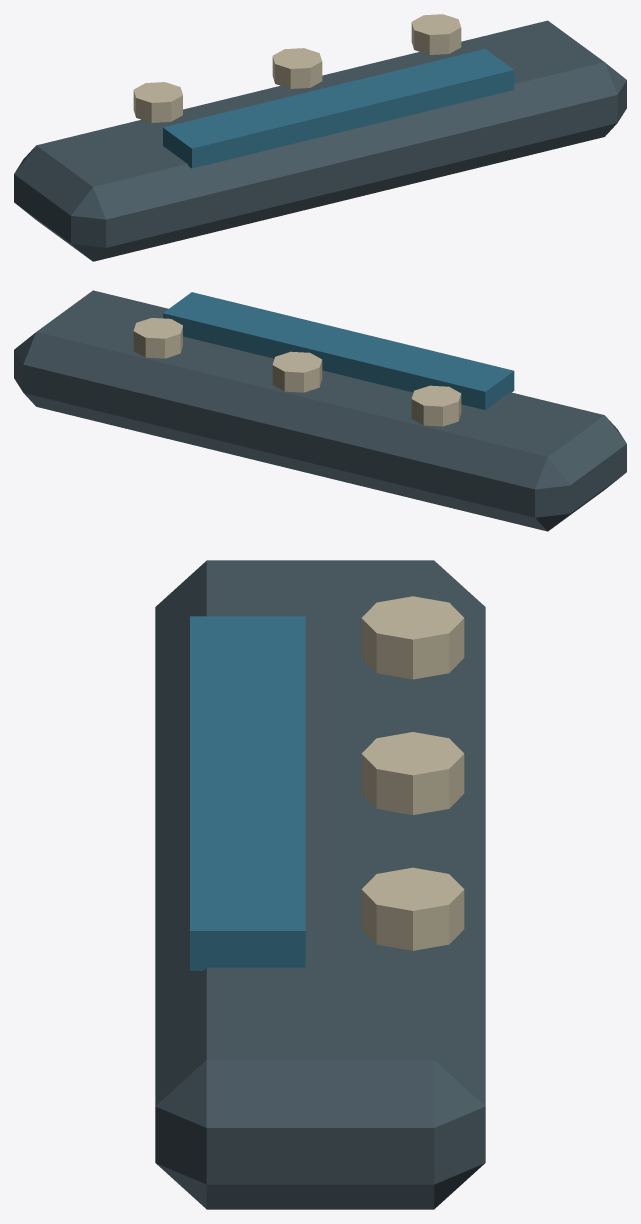
The model's file is set_multimeter.glb.
The picture shows the model from 3 angles, top to bottom: view 1: azimuth 30°, elevation 25°; view 2: azimuth 150°, elevation 25°; view 3: azimuth 270°, elevation 25°; orthographic projection. The views are drawn at different scales.
Parts seen in each view (by area): view 1: set_multimeter; view 2: set_multimeter; view 3: set_multimeter.
Boxes of the visible parts, bbox=[...] form: set_multimeter: bbox=[14, 14, 626, 261]; set_multimeter: bbox=[14, 290, 626, 531]; set_multimeter: bbox=[155, 560, 485, 1209].
Bounding box in the file's own units: 0.35 × 0.062 × 0.09.
